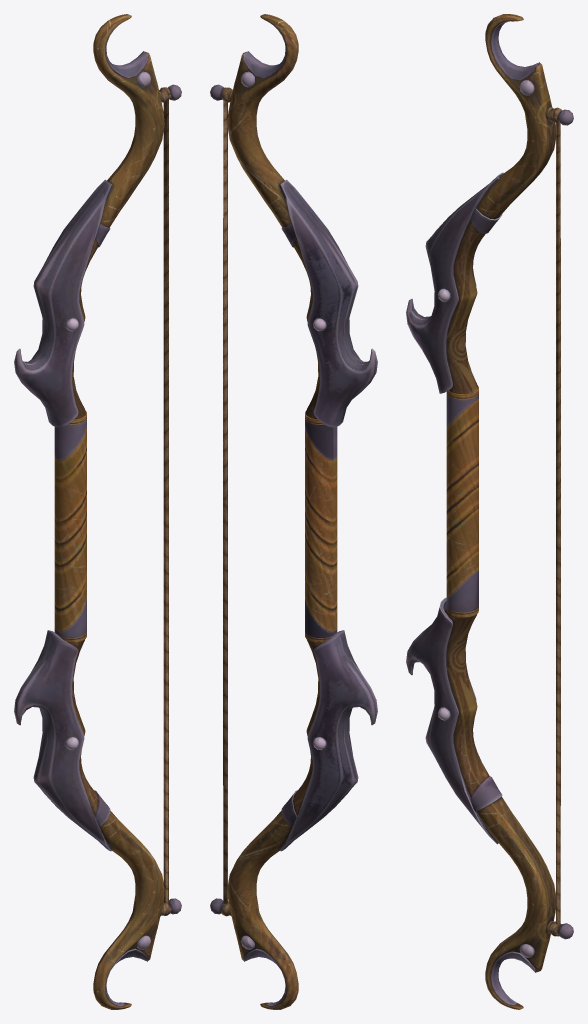
3 renders of one model, left to right at view 1: azimuth 30°, elevation 25°; view 2: azimuth 150°, elevation 25°; view 3: azimuth 330°, elevation 25°, orthographic.
Parts seen in each view (by area): view 1: SM_Shortbow_Maple_2H_01_LOD0; view 2: SM_Shortbow_Maple_2H_01_LOD0; view 3: SM_Shortbow_Maple_2H_01_LOD0.
Boxes of the visible parts, x1=… form: SM_Shortbow_Maple_2H_01_LOD0: x1=14, y1=14, x2=181, y2=1009; SM_Shortbow_Maple_2H_01_LOD0: x1=210, y1=14, x2=377, y2=1009; SM_Shortbow_Maple_2H_01_LOD0: x1=406, y1=14, x2=573, y2=1009.
Bounding box in the file's own units: 0.2639 × 1.52 × 0.0733.
1 material, 1 textured.
